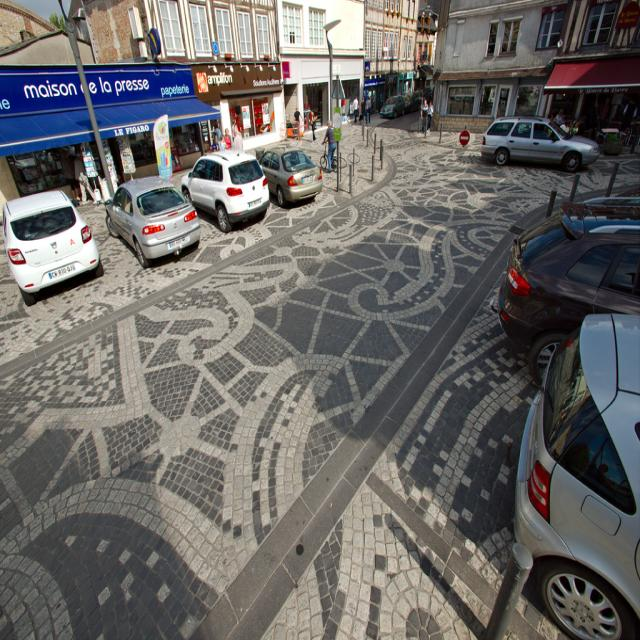car: (2, 185, 103, 306), (479, 112, 600, 172), (379, 92, 404, 118)
